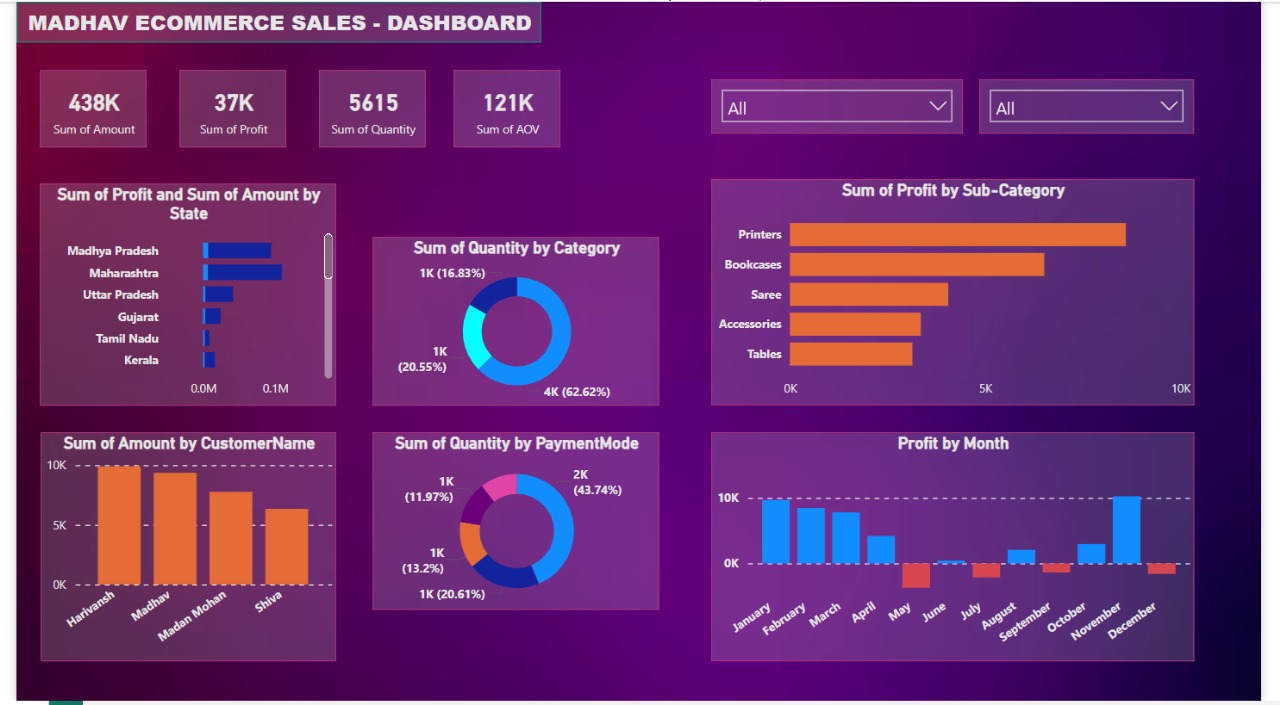

The page's visual inventory and layout, read from the dashboard file:
{"tool":"powerbi","page":{"name":"Page 1","canvas":[1280,720],"ordinal":0},"visuals":[{"type":"textbox","box":[0,0,539.8,41.8],"z":0},{"type":"columnChart","title":"Profit by Month","fields":{"Category":["Power Bi Sample File - Order.Order Date.Variation.Date Hierarchy.Month"],"Y":["Power Bi Sample file - Details.Profit"]},"box":[714.7,443.3,496.6,235.9],"z":1000},{"type":"barChart","fields":{"Category":["Power Bi Sample file - Details.Sub-Category"],"Y":["Power Bi Sample file - Details.Profit"]},"box":[714.7,182.7,496.6,233.2],"z":2000},{"type":"donutChart","fields":{"Category":["Power Bi Sample file - Details.Category"],"Y":["Power Bi Sample file - Details.Quantity"]},"box":[366.2,242.1,295.3,173.8],"z":3000},{"type":"donutChart","fields":{"Y":["Power Bi Sample file - Details.Quantity"],"Category":["Power Bi Sample file - Details.PaymentMode"]},"box":[366.2,443.3,295.3,182.7],"z":3001},{"type":"card","fields":{"Values":["Power Bi Sample file - Details.Amount"]},"box":[23.6,69.7,109.9,80.5],"z":3002},{"type":"card","fields":{"Values":["Power Bi Sample file - Details.Quantity"]},"box":[311.2,69.7,109.9,80.5],"z":3003},{"type":"card","fields":{"Values":["Power Bi Sample file - Details.Profit"]},"box":[167.9,69.7,109.9,80.5],"z":3004},{"type":"card","fields":{"Values":["Power Bi Sample file - Details.AOV"]},"box":[449.6,69.7,109.9,80.5],"z":3005},{"type":"barChart","fields":{"Y":["Power Bi Sample file - Details.Profit","Power Bi Sample file - Details.Amount"],"Category":["Power Bi Sample File - Order.State"]},"box":[23.9,187.1,305,228.8],"z":3006},{"type":"columnChart","fields":{"Category":["Power Bi Sample File - Order.CustomerName"],"Y":["Power Bi Sample file - Details.Amount"]},"box":[24.8,443.3,304.1,235.9],"z":3007},{"type":"actionButton","box":[0,0,100,40],"z":3009},{"type":"slicer","fields":{"Values":["Power Bi Sample File - Order.Order Date.Variation.Date Hierarchy.Quarter"]},"box":[714.7,79.8,258.9,55.9],"z":3010},{"type":"slicer","fields":{"Values":["Power Bi Sample File - Order.State"]},"box":[990.4,79.8,220.8,55.9],"z":3011}]}

Visuals, with their boxes in screenshot pixels (x1, y1, x2, y2), scaled from the page's 1280x720 canvas onto the 1280x705 screenshot:
textbox: select_region(0, 0, 540, 41)
"Profit by Month" columnChart: select_region(715, 434, 1211, 665)
barChart - Power Bi Sample file - Details.Sub-Category x Power Bi Sample file - Details.Profit: select_region(715, 179, 1211, 407)
donutChart - Power Bi Sample file - Details.Category x Power Bi Sample file - Details.Quantity: select_region(366, 237, 662, 407)
donutChart - Power Bi Sample file - Details.Quantity x Power Bi Sample file - Details.PaymentMode: select_region(366, 434, 662, 613)
card - Power Bi Sample file - Details.Amount: select_region(24, 68, 134, 147)
card - Power Bi Sample file - Details.Quantity: select_region(311, 68, 421, 147)
card - Power Bi Sample file - Details.Profit: select_region(168, 68, 278, 147)
card - Power Bi Sample file - Details.AOV: select_region(450, 68, 560, 147)
barChart - Power Bi Sample file - Details.Profit x Power Bi Sample file - Details.Amount: select_region(24, 183, 329, 407)
columnChart - Power Bi Sample File - Order.CustomerName x Power Bi Sample file - Details.Amount: select_region(25, 434, 329, 665)
actionButton: select_region(0, 0, 100, 39)
slicer - Power Bi Sample File - Order.Order Date.Variation.Date Hierarchy.Quarter: select_region(715, 78, 974, 133)
slicer - Power Bi Sample File - Order.State: select_region(990, 78, 1211, 133)
